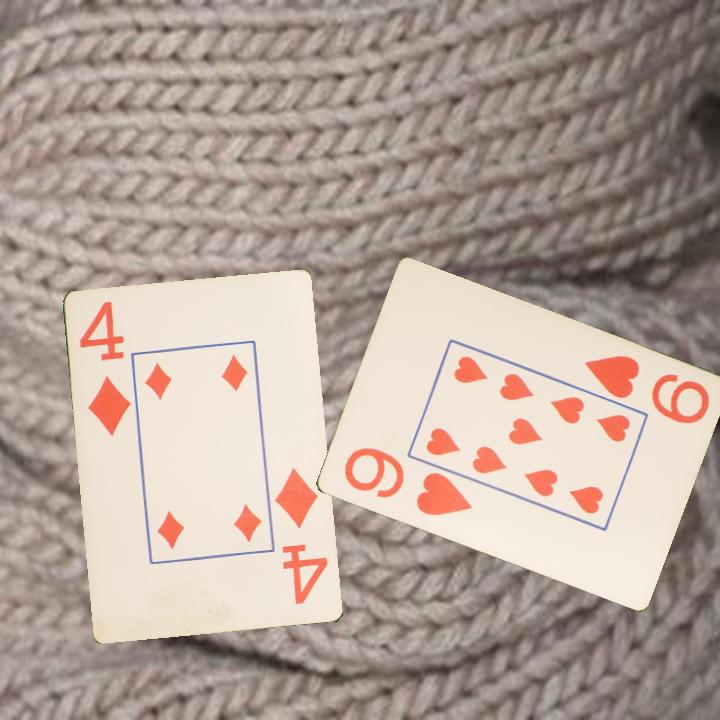4d: (272, 465, 331, 608), (76, 298, 134, 440)
9h: (340, 444, 475, 519), (580, 352, 712, 427)
